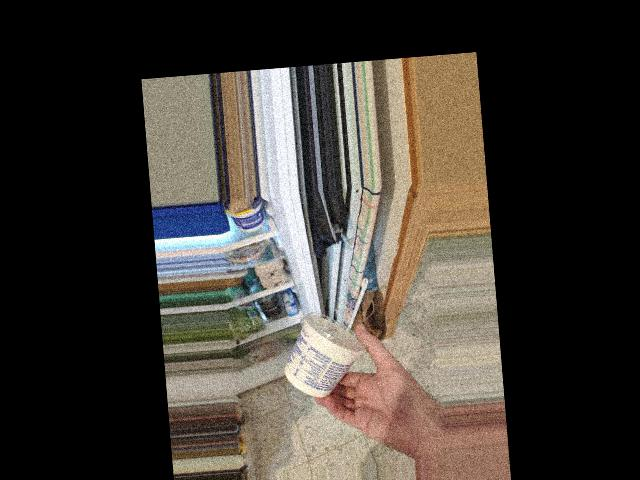cotage: (281, 303, 368, 388)
